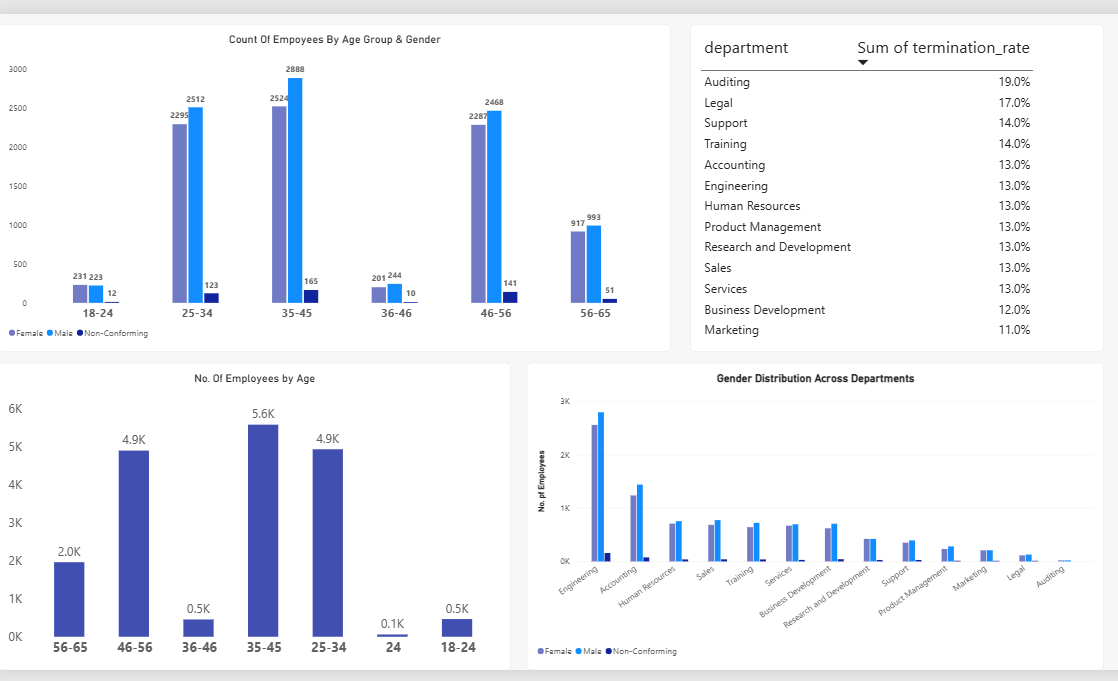

What the dashboard file says about the page in this screenshot:
{"tool":"powerbi","page":{"name":"Page 2","canvas":[1920,1080],"ordinal":1},"visuals":[{"type":"columnChart","title":"No. Of Employees by Age","fields":{"Category":["No  of employees by age group.min"],"Y":["Sum(No  of employees by age group.max)"]},"box":[0,574,844,506],"z":0},{"type":"clusteredColumnChart","title":"Count Of Empoyees By Age Group & Gender","fields":{"Category":["No  of employees by age group and gender.age_group"],"Series":["No  of employees by age group and gender.gender"],"Y":["Sum(No  of employees by age group and gender.count)"]},"box":[0,16,1108,540],"z":1000},{"type":"tableEx","fields":{"Values":["Department turnover ratio.department","Sum(Department turnover ratio.termination_rate)"]},"box":[1140,16,680,540],"z":2000},{"type":"clusteredColumnChart","title":"Gender Distribution Across Departments","fields":{"Category":["Gender distribution across department and title.department"],"Series":["Gender distribution across department and title.gender"],"Y":["Sum(Gender distribution across department and title.count)"]},"box":[870,574,950,506],"z":3000}]}

Visuals, with their boxes on the page's 1920x1080 design canvas (x1, y1, x2, y2). These are canvas units, not pixel positions in the 1118x681 screenshot, which may show the page scaled, cropped or inside an application window:
"No. Of Employees by Age" columnChart: <box>0,574,844,1080</box>
"Count Of Empoyees By Age Group & Gender" clusteredColumnChart: <box>0,16,1108,556</box>
tableEx - Department turnover ratio.department x Sum(Department turnover ratio.termination_rate): <box>1140,16,1820,556</box>
"Gender Distribution Across Departments" clusteredColumnChart: <box>870,574,1820,1080</box>
